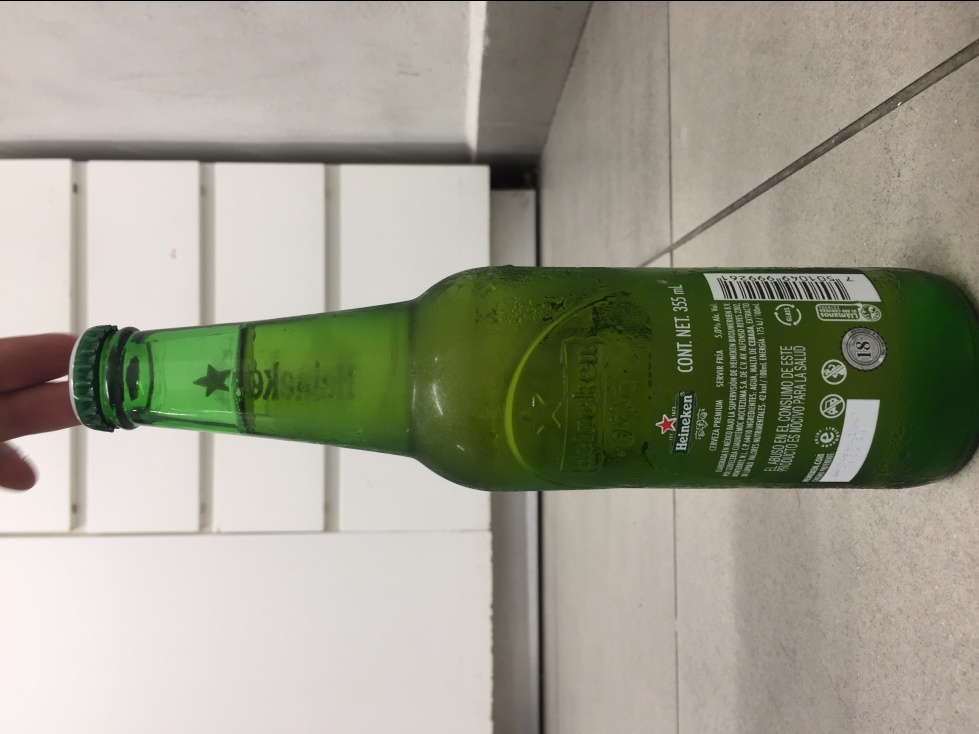heineken: (62, 260, 979, 493)
